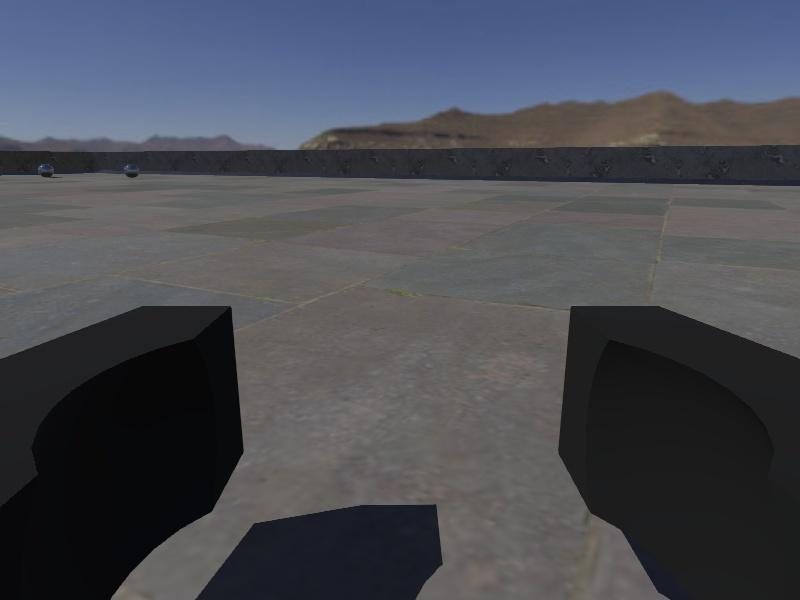steel ball: (38, 162, 56, 179), (123, 163, 141, 178)
